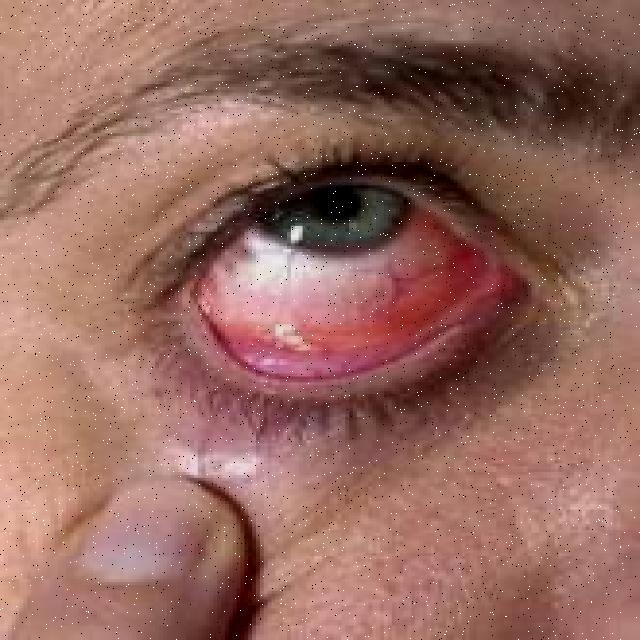Conjunctivitis: (152, 210, 512, 368)
